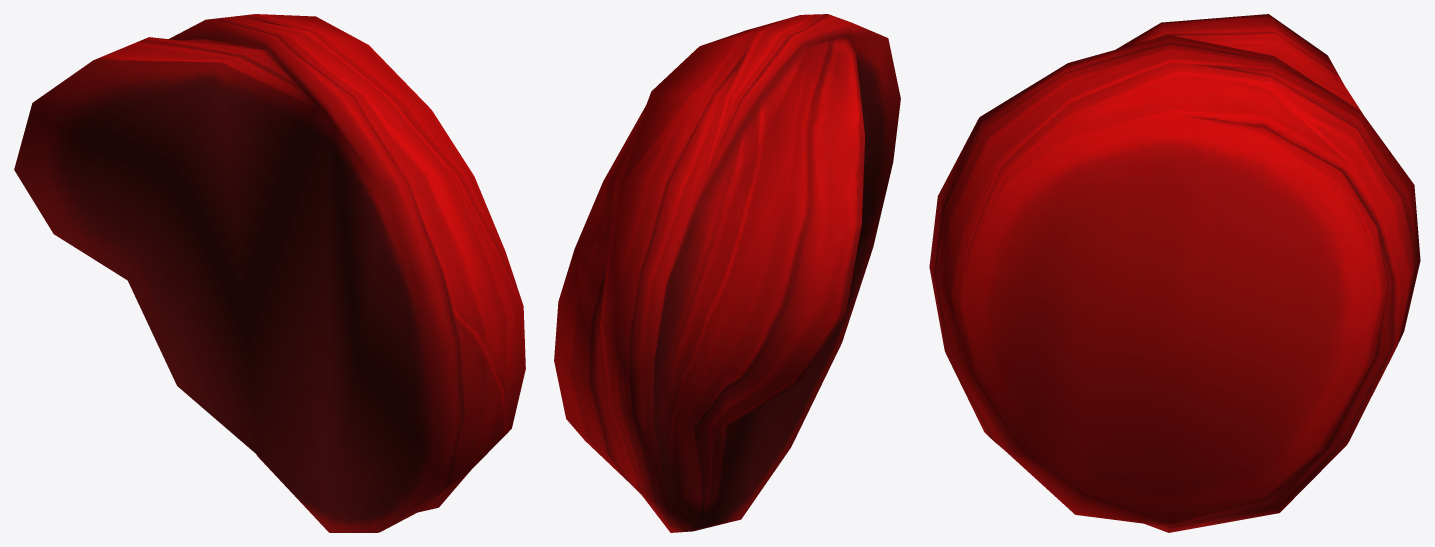
3 views of the same model, side by side, from view 1: azimuth 30°, elevation 25°; view 2: azimuth 150°, elevation 25°; view 3: azimuth 270°, elevation 25° (orthographic). The views are drawn at different scales.
Parts seen in each view (by area): view 1: G1230; view 2: G1230; view 3: G1230.
Part boxes in pixels (x1=…): G1230: x1=14, y1=14, x2=525, y2=532; G1230: x1=554, y1=14, x2=900, y2=532; G1230: x1=929, y1=14, x2=1420, y2=532.
Bounding box in the file's own units: 0.2569 × 0.3869 × 0.3673.
